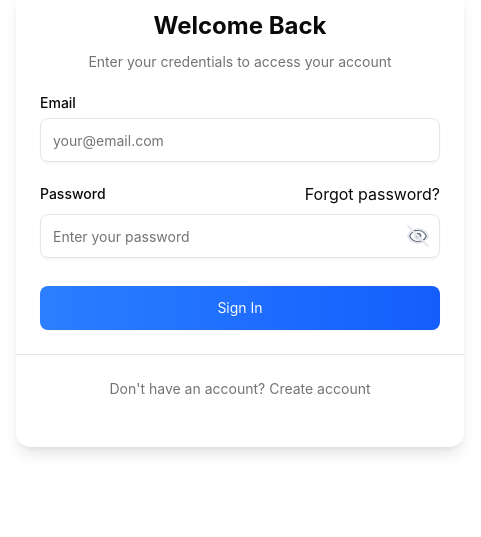
Test case: LoginForm › shows a generic error when the credentials are rejected
In the field with placeholder "your@email.com": (240, 140) [40,118,440,162], type "a@b.co"
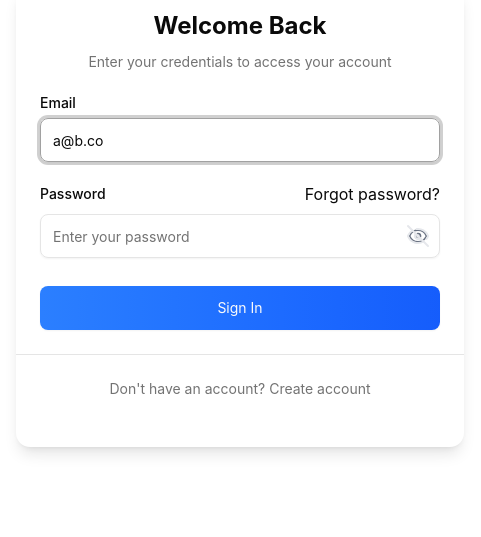
In the password field with placeholder "Enter your password": (240, 236) [40,214,440,258], type "wrong"
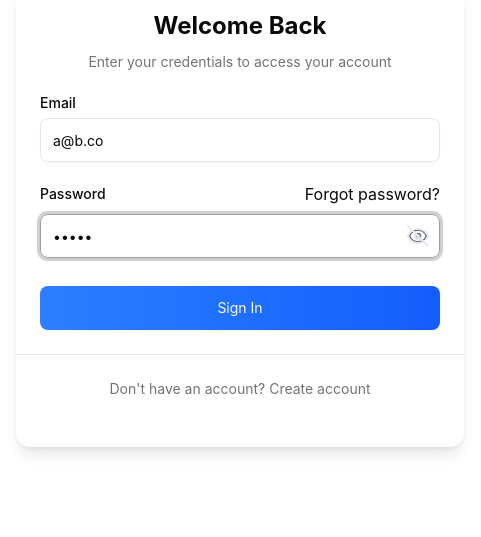
Click the button "Sign In": (240, 308) [40,286,440,330]
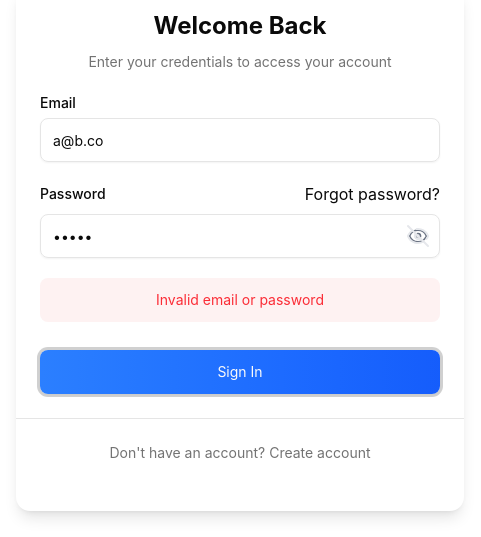
Expected: the text "Invalid email or password" is shown, [40,278,440,322]
